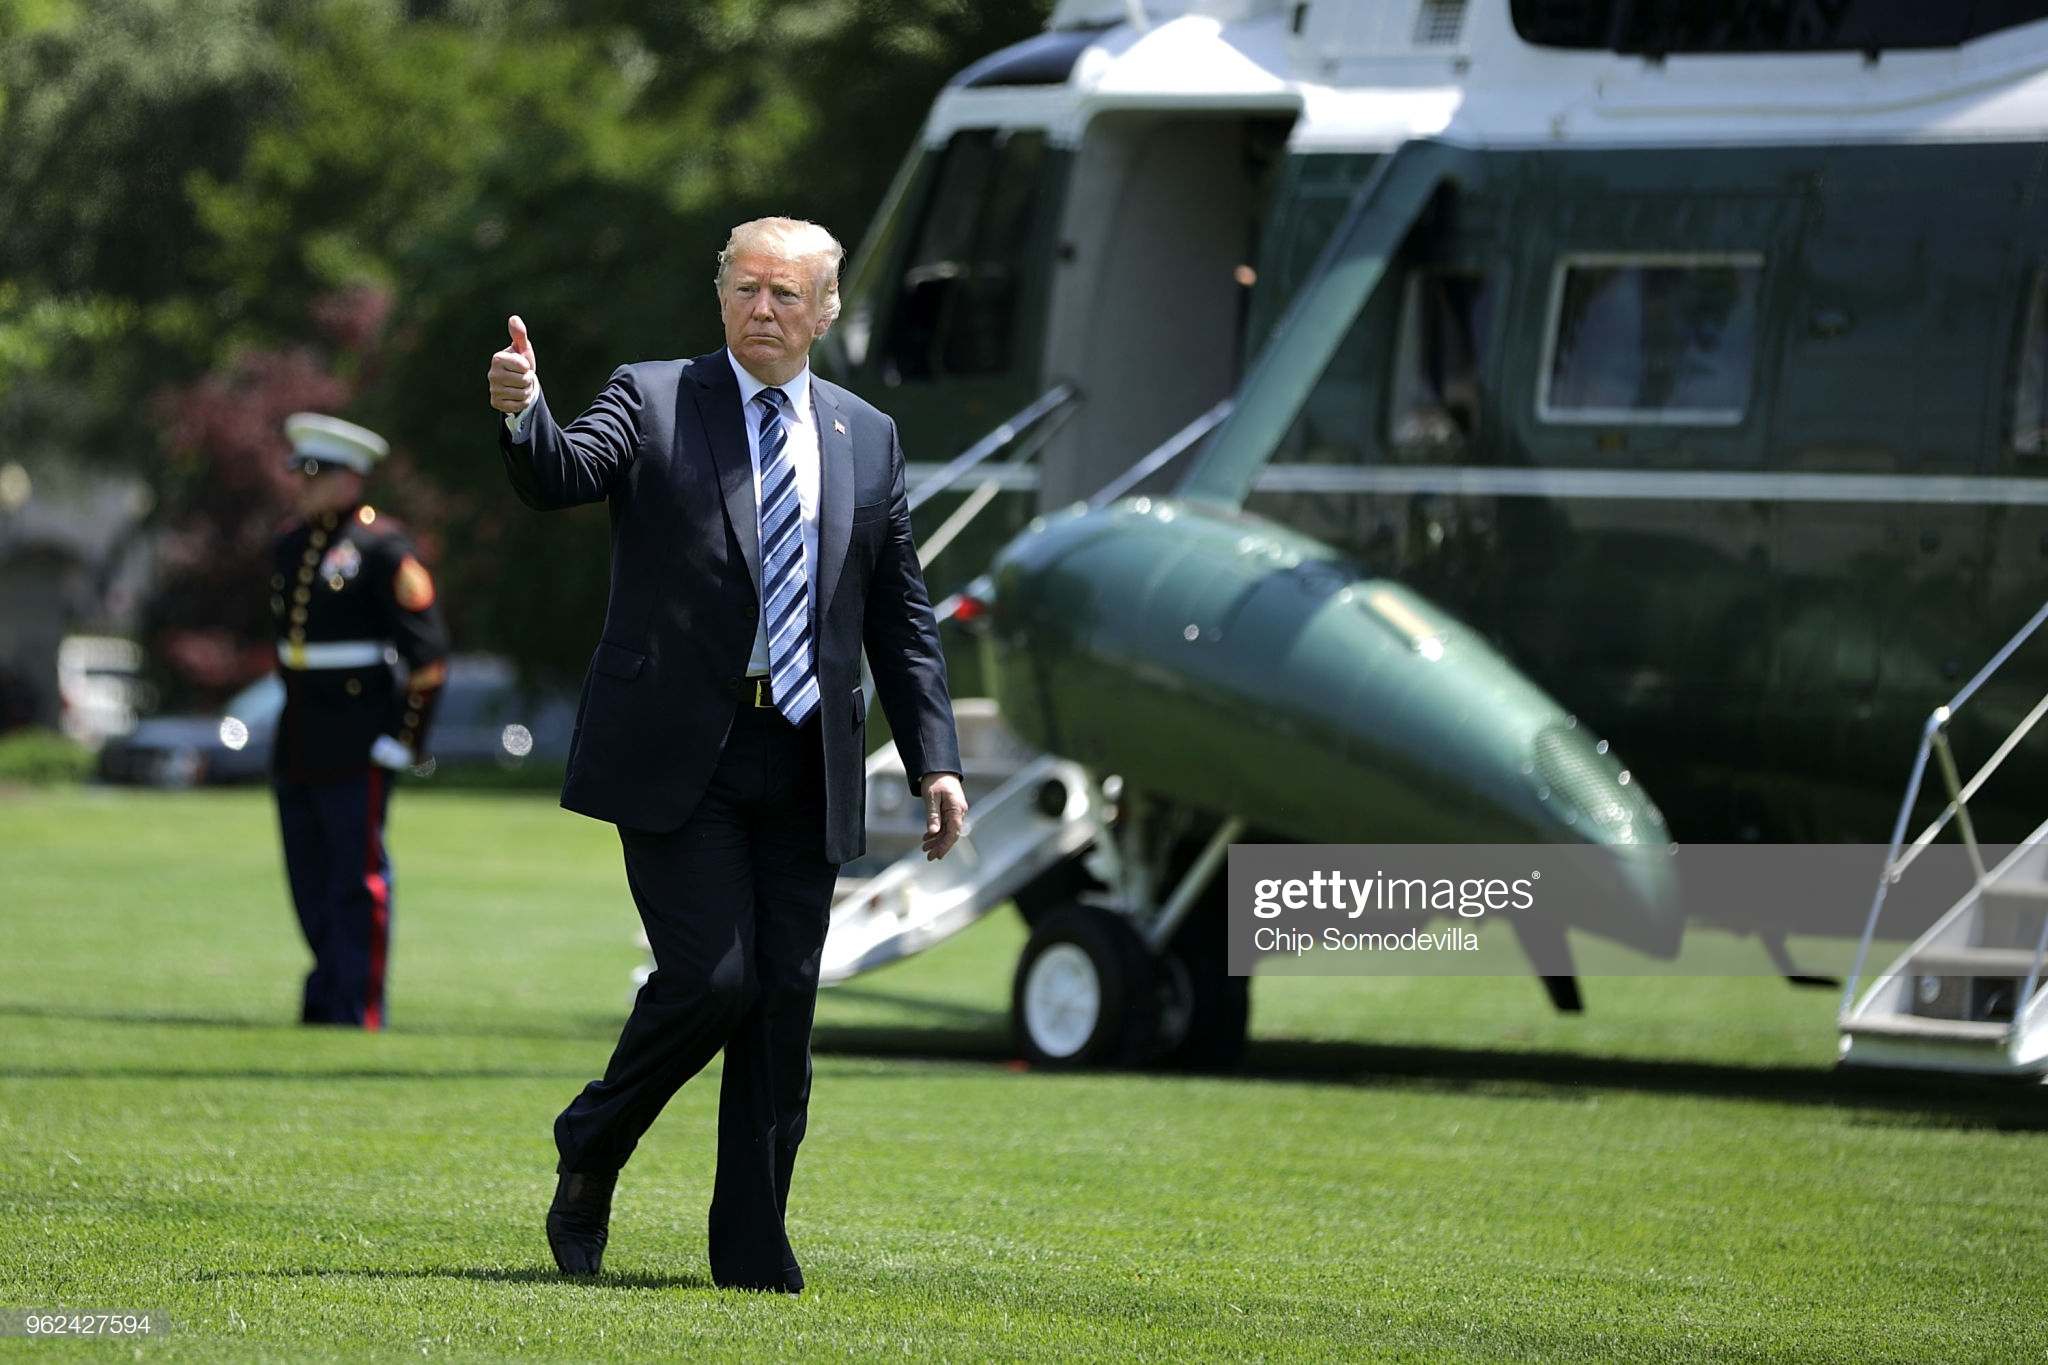thumbsup: (487, 312, 531, 411)
